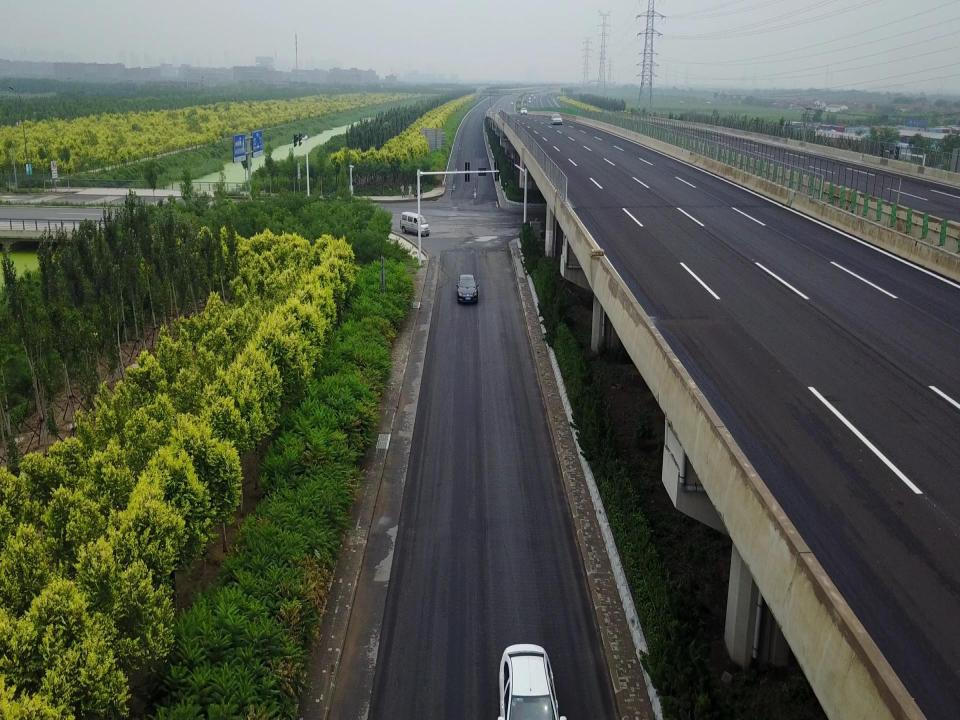car: (494, 642, 569, 720), (455, 274, 479, 305), (550, 114, 562, 126), (520, 108, 528, 116), (528, 100, 531, 103), (511, 101, 513, 105), (524, 103, 526, 107), (524, 99, 526, 103), (680, 101, 684, 103), (707, 101, 711, 103), (529, 97, 531, 100), (531, 94, 533, 97), (541, 92, 544, 94), (514, 93, 516, 96), (512, 93, 515, 95), (538, 93, 540, 95)
truck: (534, 96, 536, 99)
van: (400, 212, 430, 238), (556, 97, 561, 99)
